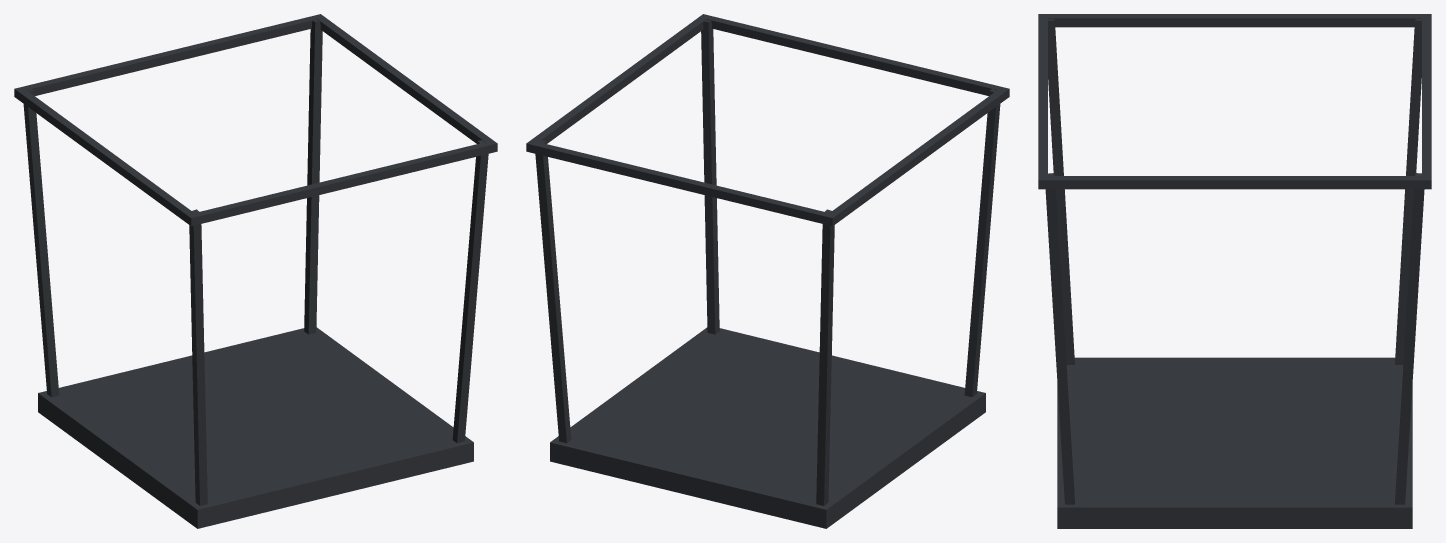
The model's file is SM_Prop_Market_Fruit_Basket_01.obj.
The picture shows the model from 3 angles, left to right: view 1: azimuth 30°, elevation 25°; view 2: azimuth 150°, elevation 25°; view 3: azimuth 270°, elevation 25°; orthographic projection. The views are drawn at different scales.
Visible parts, largest first — view 1: SM_Prop_Market_Fruit_Basket_01_0; view 2: SM_Prop_Market_Fruit_Basket_01_0; view 3: SM_Prop_Market_Fruit_Basket_01_0.
Part boxes in pixels (x1,y1,x2,y2): SM_Prop_Market_Fruit_Basket_01_0: (14,14,497,528); SM_Prop_Market_Fruit_Basket_01_0: (526,14,1009,528); SM_Prop_Market_Fruit_Basket_01_0: (1038,14,1431,528).
Size of the model in its own units: 0.513 by 0.5135 by 0.513.
Materials: 1 (1 with a texture image).
